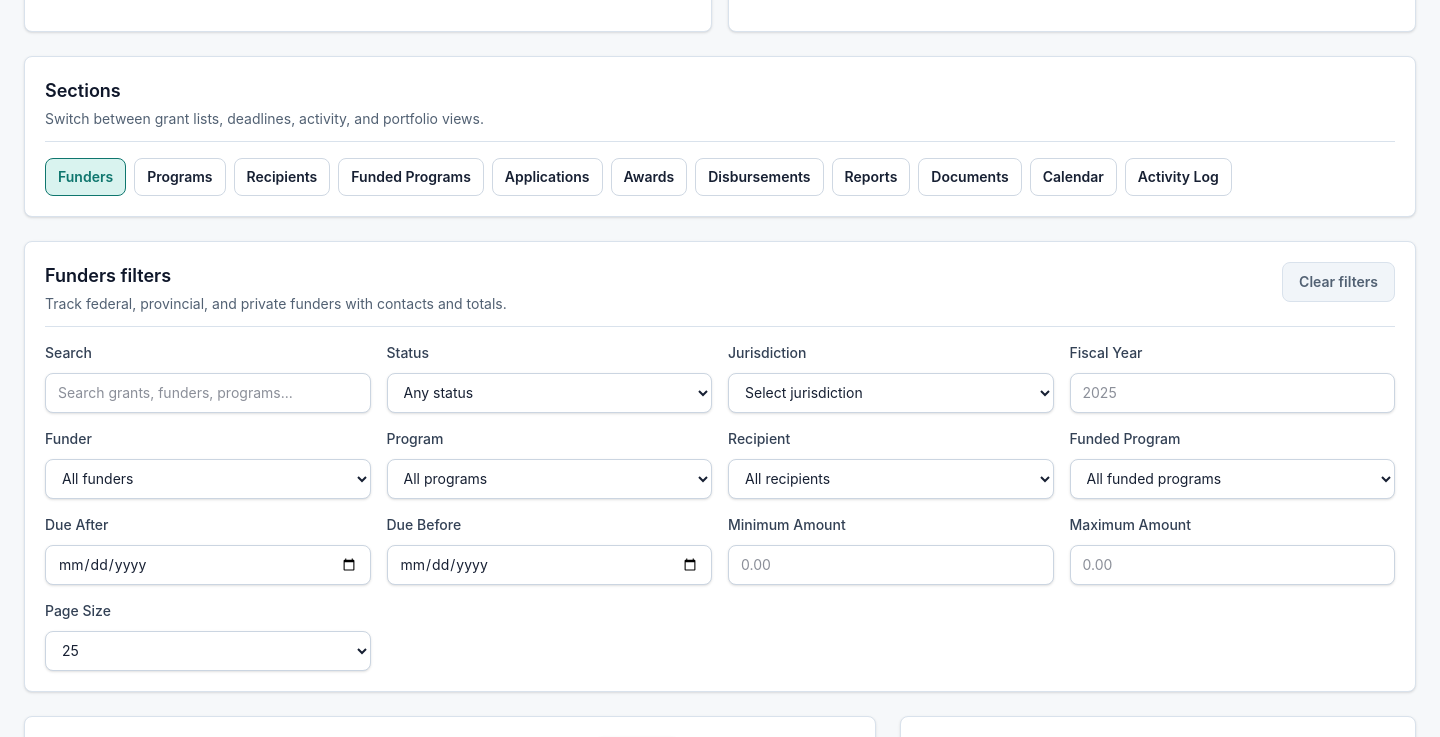
Test: GrantsPage › reuses cached lookups when filters change
(page scrolled)
Select "Federal" in the dropdown labelled "Jurisdiction": (891, 392) [728,372,1054,412]
(page scrolled)
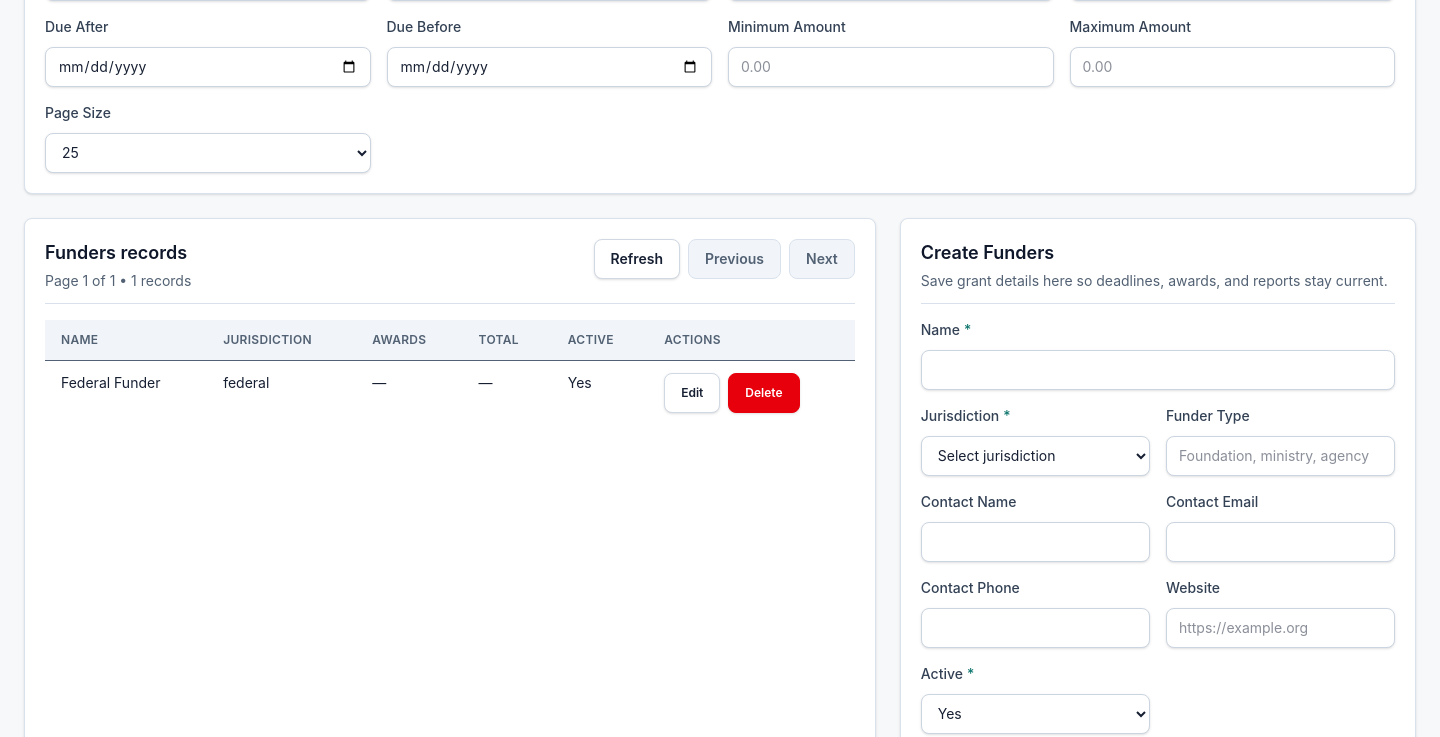
Result: the text "Federal Funder" is shown at [45,360,207,424]
